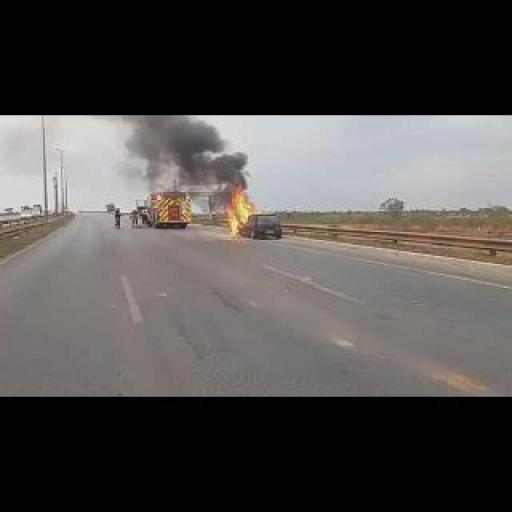smoke: (124, 114, 249, 198), (224, 187, 259, 237)
